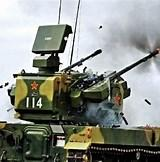MIL_SPG: (0, 24, 159, 162)
